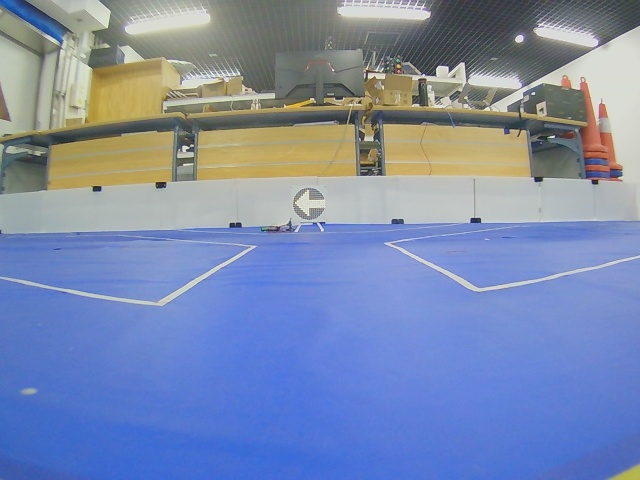left_yellow: (293, 188, 326, 221)
